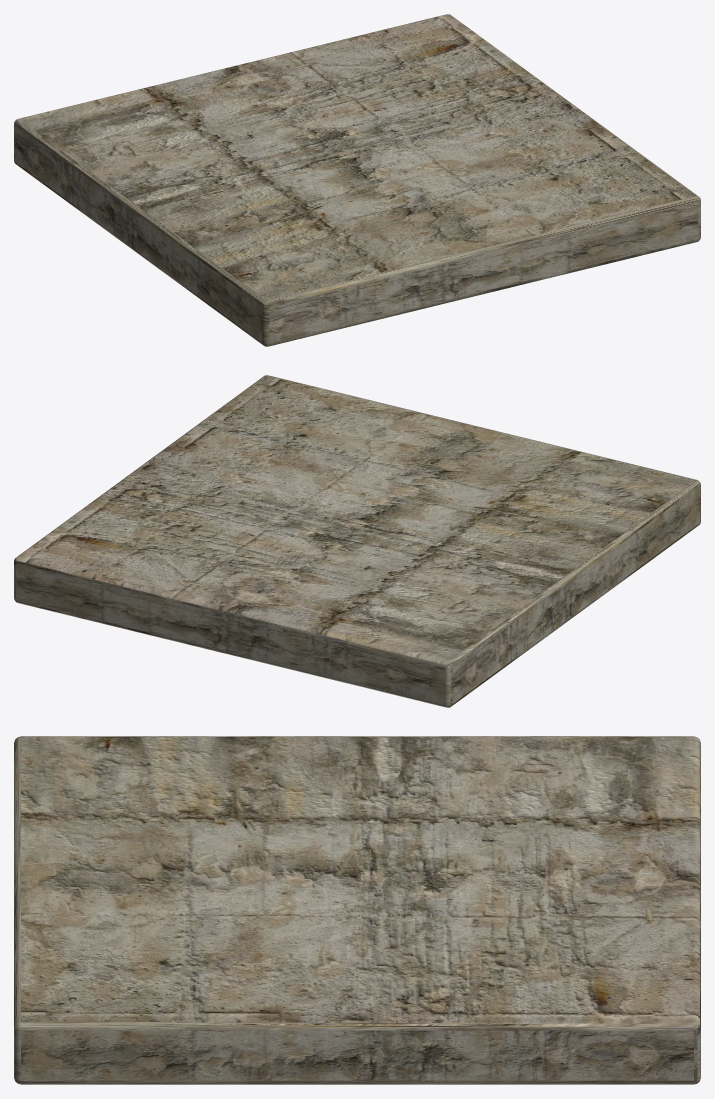
The model's file is base_tile.fbx.
3 renders of one model, top to bottom at view 1: azimuth 30°, elevation 25°; view 2: azimuth 150°, elevation 25°; view 3: azimuth 270°, elevation 25°, orthographic. The views are drawn at different scales.
Visible parts, largest first — view 1: pCube2; view 2: pCube2; view 3: pCube2.
Boxes of the visible parts, x1,y1,x2,y2 form: pCube2: (14, 14, 700, 346); pCube2: (14, 375, 700, 707); pCube2: (14, 736, 700, 1084).
Size of the model in its own units: 1 by 0.1 by 1.
